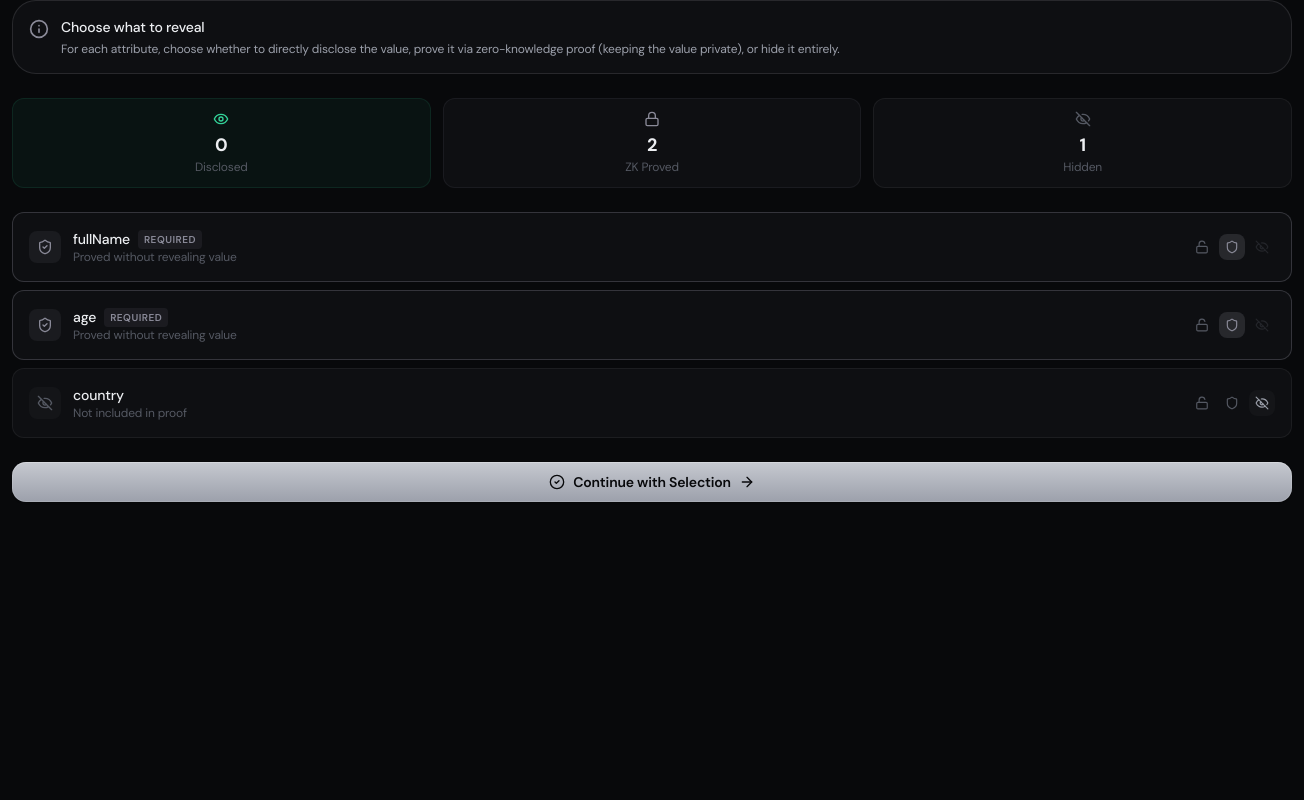
Test: SelectiveDisclosureBuilder › shows value preview only when mode is disclose
Expected: the text "Value to be revealed" is not shown
Note: Set fullName to disclose
Click the button titled "Disclose value" in the row of "fullName": [1202, 247] box [1189,234,1215,260]
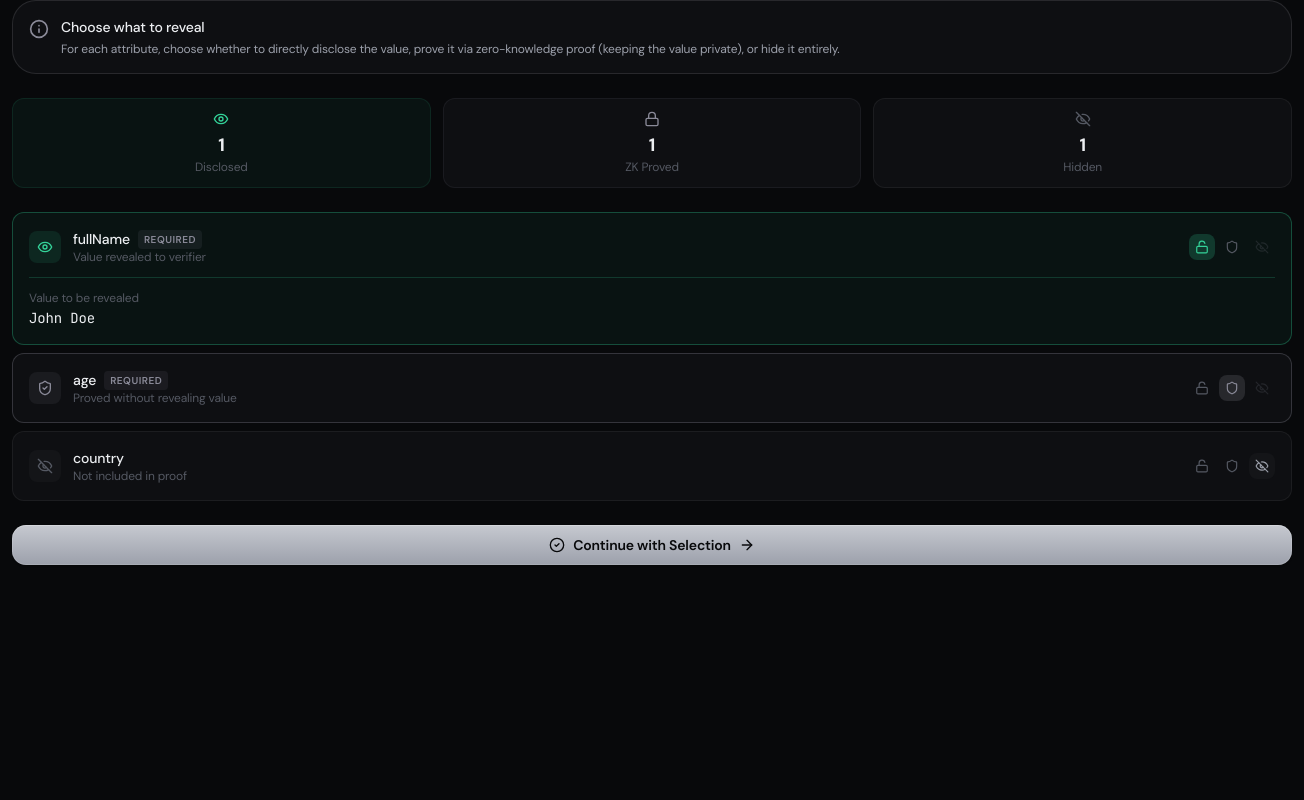
Expected: the text "Value to be revealed" is shown, [29,290,139,306]
Note: Switch back to zk-prove
Click the button titled "Prove via ZK" in the row of "Value revealed to verifier": [1232, 247] box [1219,234,1245,260]
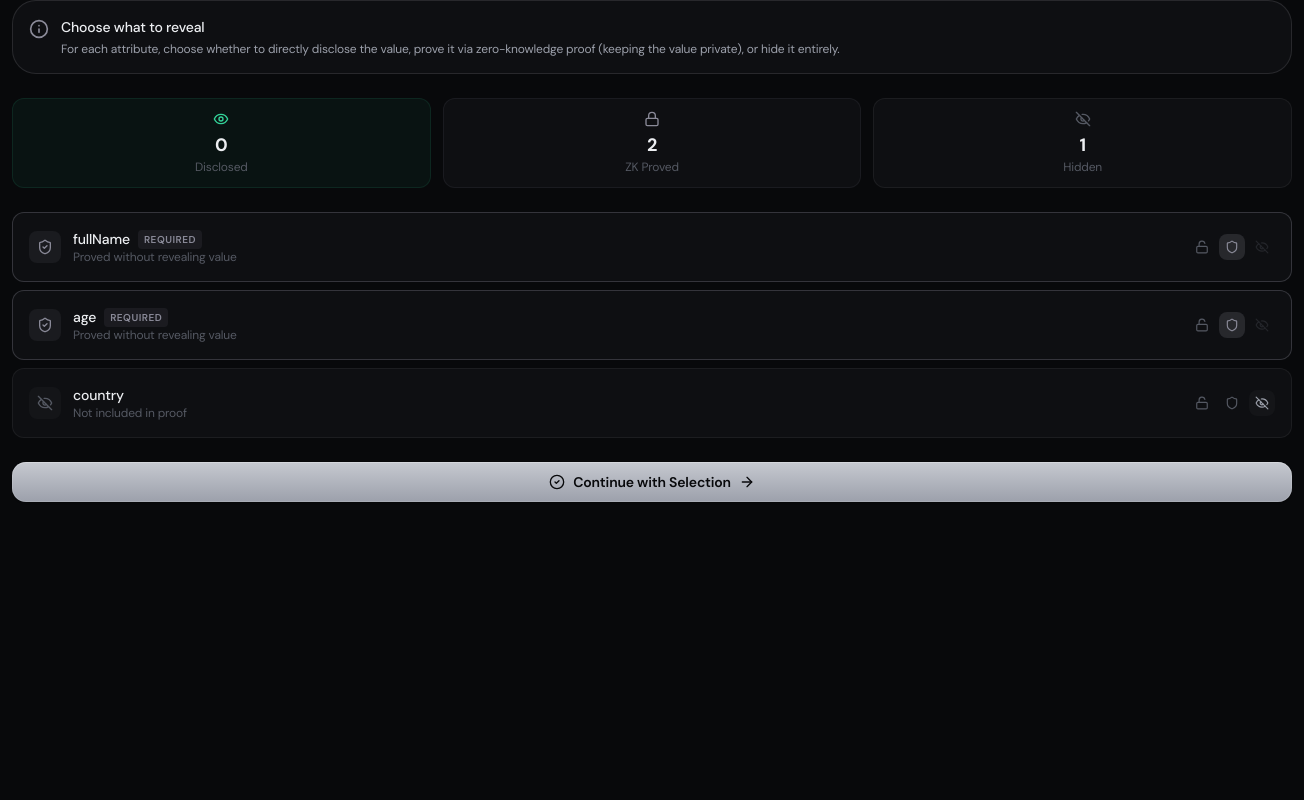
Expected: the text "Value to be revealed" is gone
